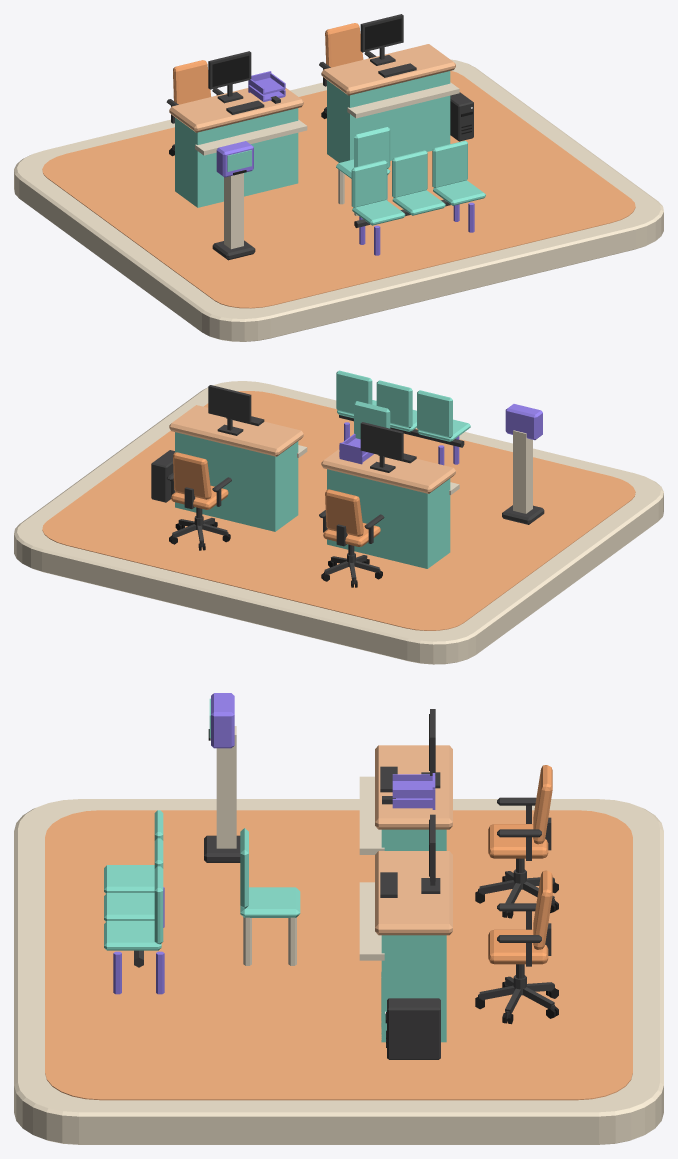
File: room.fbx
3 renders of one model, top to bottom at view 1: azimuth 30°, elevation 25°; view 2: azimuth 150°, elevation 25°; view 3: azimuth 270°, elevation 25°, orthographic. The views are drawn at different scales.
Visible parts, largest first — view 1: COM-02 Floor Surface, COM-01 Rounded Base Direct, Counter body.001, Counter body, Countertop.001, Countertop, COM-04_Chair_blender_direct, COM-04_Chair_blender_direct.001, Frame.001, Frame, Back, Back.001 (+11 smaller); view 2: COM-02 Floor Surface, COM-01 Rounded Base Direct, Counter body.001, Counter body, COM-04_Chair_blender_direct.001, COM-04_Chair_blender_direct, Countertop.001, Countertop, Pedestal, Frame.001, Frame, Back (+6 smaller); view 3: COM-02 Floor Surface, COM-01 Rounded Base Direct, Countertop.001, COM-04_Chair_blender_direct.001, COM-04_Chair_blender_direct, Counter body.001, Countertop, Tower, Pedestal, Seat.003, Seat.002, Visitor shelf.001 (+9 smaller).
Boxes of the visible parts, <box> form: COM-02 Floor Surface: <box>42,71,635,308</box>; COM-01 Rounded Base Direct: <box>14,59,663,341</box>; Counter body.001: <box>327,71,450,162</box>; Counter body: <box>175,108,298,207</box>; Countertop.001: <box>321,44,455,95</box>; Countertop: <box>169,88,303,132</box>; COM-04_Chair_blender_direct: <box>166,60,223,156</box>; COM-04_Chair_blender_direct.001: <box>319,23,376,118</box>; Frame.001: <box>360,14,403,65</box>; Frame: <box>208,51,251,103</box>; Back: <box>351,160,387,207</box>; Back.001: <box>392,150,427,197</box>; COM-02 Floor Surface: <box>42,391,635,630</box>; COM-01 Rounded Base Direct: <box>14,381,663,664</box>; Counter body.001: <box>175,432,298,531</box>; Counter body: <box>327,469,450,568</box>; COM-04_Chair_blender_direct.001: <box>166,452,231,550</box>; COM-04_Chair_blender_direct: <box>319,489,384,587</box>; Countertop.001: <box>169,405,303,456</box>; Countertop: <box>321,449,455,493</box>; Pedestal: <box>513,430,532,513</box>; Frame.001: <box>208,385,251,435</box>; Frame: <box>360,422,403,472</box>; Back: <box>417,390,452,437</box>; COM-02 Floor Surface: <box>45,810,632,1100</box>; COM-01 Rounded Base Direct: <box>14,799,663,1144</box>; Countertop.001: <box>375,851,452,935</box>; COM-04_Chair_blender_direct.001: <box>475,870,558,1024</box>; COM-04_Chair_blender_direct: <box>475,765,558,918</box>; Counter body.001: <box>381,935,446,1042</box>; Countertop: <box>375,745,452,829</box>; Tower: <box>387,998,440,1059</box>; Pedestal: <box>216,726,236,848</box>; Seat.003: <box>240,887,300,917</box>; Seat.002: <box>104,921,161,950</box>; Visitor shelf.001: <box>359,882,384,960</box>.
Size of the model in its own units: 600 by 187 by 520.
